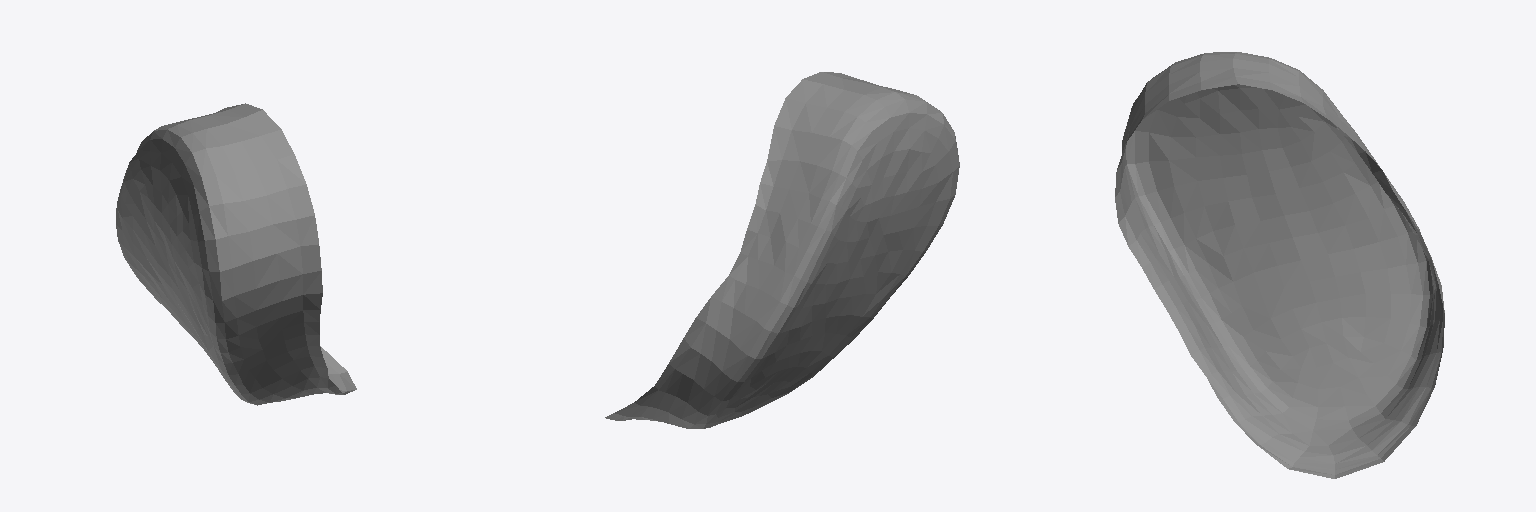
Rendered from right_grip.obj.
3 views of the same model, side by side, from view 1: azimuth 30°, elevation 25°; view 2: azimuth 150°, elevation 25°; view 3: azimuth 270°, elevation 25° (orthographic).
Visible parts, largest first — view 1: right_grip Mesh; view 2: right_grip Mesh; view 3: right_grip Mesh.
Boxes of the visible parts, <box> form: right_grip Mesh: <box>116,103,356,405</box>; right_grip Mesh: <box>605,72,959,428</box>; right_grip Mesh: <box>1115,52,1444,478</box>.
Bounding box in the file's own units: 0.0163 × 0.0215 × 0.0195.